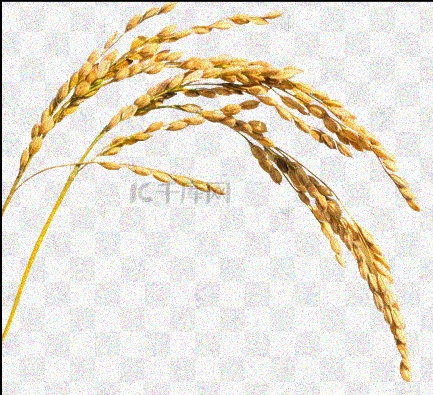rice: (65, 86, 409, 383), (4, 3, 420, 195)
